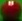brown: (0, 0, 22, 21)
